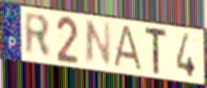2: (55, 15, 81, 67)
4: (175, 31, 198, 80)
A: (111, 25, 145, 73)
N: (83, 19, 113, 67)
R: (23, 10, 53, 61)
T: (144, 27, 169, 77)
